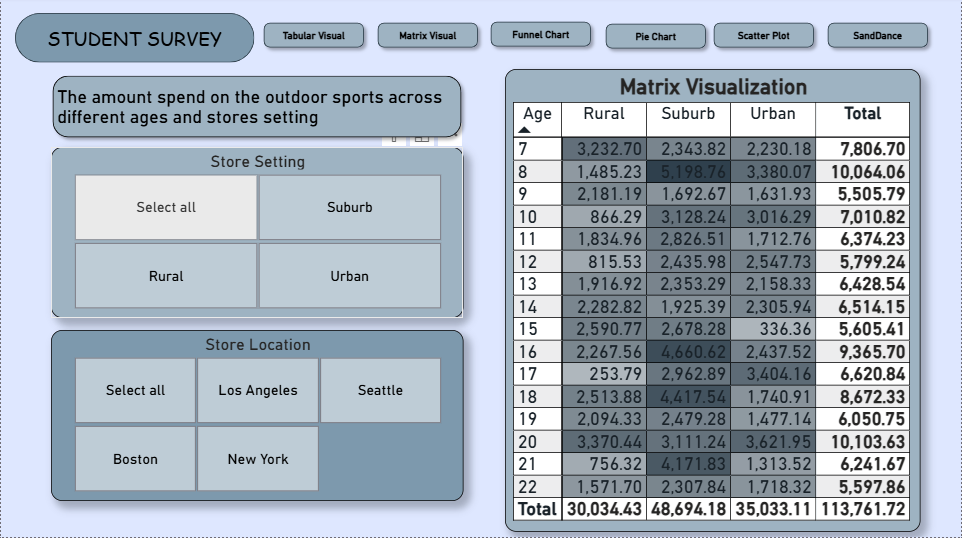

Layout of this report page (visuals, bound fields, positions):
{"tool":"powerbi","page":{"name":"Matrix Visualization","canvas":[1280,720],"ordinal":1},"visuals":[{"type":"pivotTable","title":"Matrix Visualization","fields":{"Rows":["Student Survey.Age"],"Columns":["Student Survey.Store Setting"],"Values":["Sum(Student Survey.OutDoor SportKits)"]},"box":[672.4,95.6,554.2,617.5],"z":0},{"type":"shape","box":[797.3,25.9,151.4,50.9],"z":1000,"group":"g2"},{"type":"slicer","title":"Store Setting","fields":{"Values":["Student Survey.Store Setting"]},"box":[66.1,199.7,550,227.9],"z":1000},{"type":"slicer","title":"Store Location","fields":{"Values":["Student Survey.Store Location"]},"box":[66.1,444.5,550,227.9],"z":2000},{"type":"shape","box":[60.5,95.6,562.6,99.9],"z":3000},{"type":"group","id":"g1","title":"Group 2","box":[341.8,23.9,903,52],"z":4000},{"type":"shape","box":[18.3,21.1,319.3,66.1],"z":5000},{"type":"shape","box":[341.8,25.3,151.4,50.9],"z":5000,"group":"g1"},{"type":"shape","box":[941.9,25.3,151.4,50.9],"z":6000,"group":"g1"},{"type":"shape","box":[1093.3,25.3,151.4,50.9],"z":7000,"group":"g1"},{"type":"shape","box":[493.2,25.3,151.4,50.9],"z":8000,"group":"g1"},{"type":"shape","box":[644.6,23.9,151.4,50.9],"z":9000,"group":"g1"},{"type":"group","id":"g2","title":"Group 1","box":[797.3,25.9,151.4,50.9],"z":10000,"group":"g1"}]}

Visuals, with their boxes in screenshot pixels (x1, y1, x2, y2), scaled from the page's 1280x720 canvas onto the 962x538 screenshot:
"Matrix Visualization" pivotTable: <region>505, 71, 922, 533</region>
shape: <region>599, 19, 713, 57</region>
"Store Setting" slicer: <region>50, 149, 463, 320</region>
"Store Location" slicer: <region>50, 332, 463, 502</region>
shape: <region>45, 71, 468, 146</region>
"Group 2" group: <region>257, 18, 936, 57</region>
shape: <region>14, 16, 254, 65</region>
shape: <region>257, 19, 371, 57</region>
shape: <region>708, 19, 822, 57</region>
shape: <region>822, 19, 935, 57</region>
shape: <region>371, 19, 484, 57</region>
shape: <region>484, 18, 598, 56</region>
"Group 1" group: <region>599, 19, 713, 57</region>
